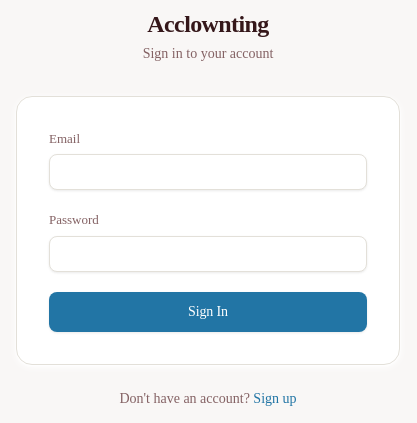
it: LoginPage › shows loading state during submission
Step 1. Type "user@test.com" into the field labelled "Email" → [208, 172], box [49, 154, 367, 190]
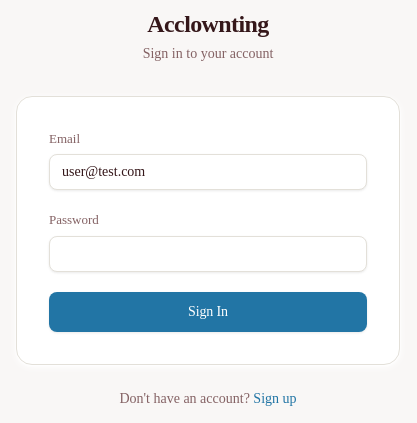
Step 2. Type "password123" into the password field labelled "Password" → [208, 254], box [49, 236, 367, 272]
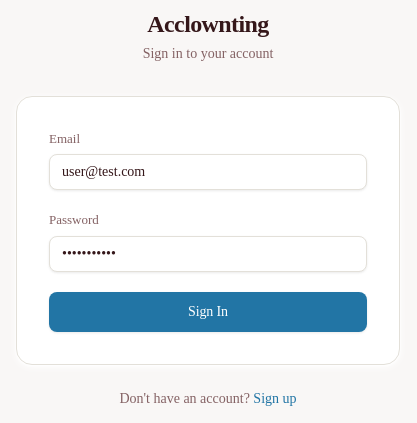
Step 3. Submit the form "Sign In", box [49, 128, 367, 332]
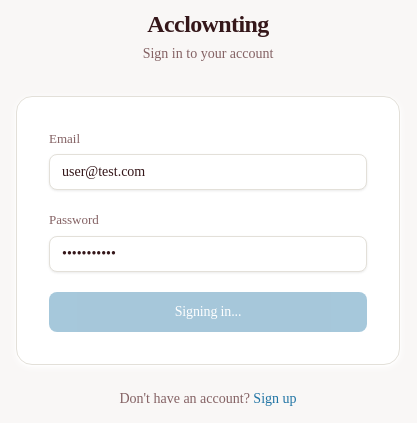
Expected: the button "Signing in..." is disabled, [49, 292, 367, 332]
